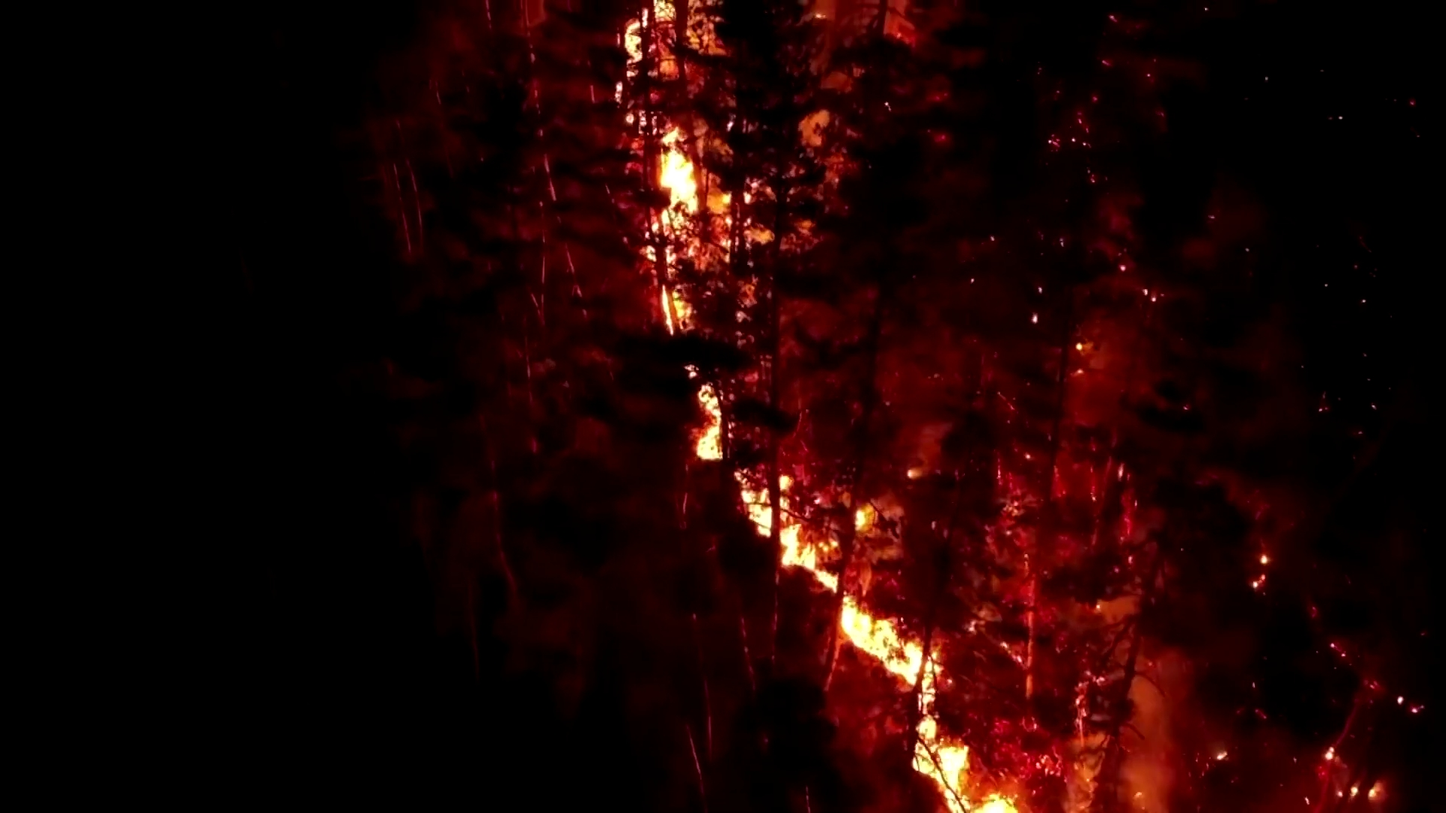forest_fire: (624, 81, 738, 334), (735, 477, 836, 589), (615, 0, 716, 103), (843, 600, 920, 675), (693, 381, 729, 461), (922, 739, 969, 793)
